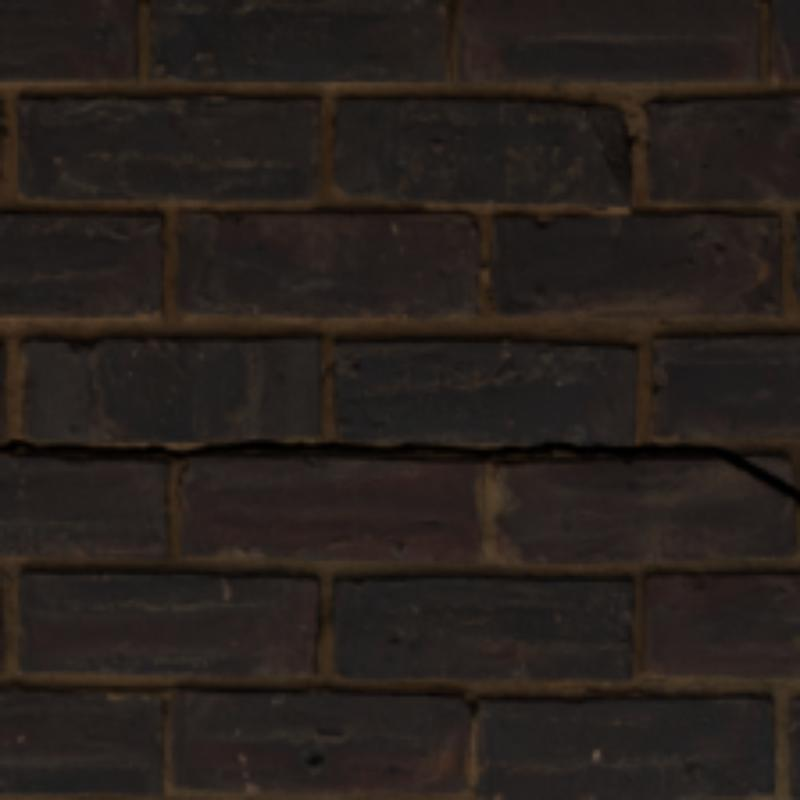pothole: (1, 441, 797, 502)
